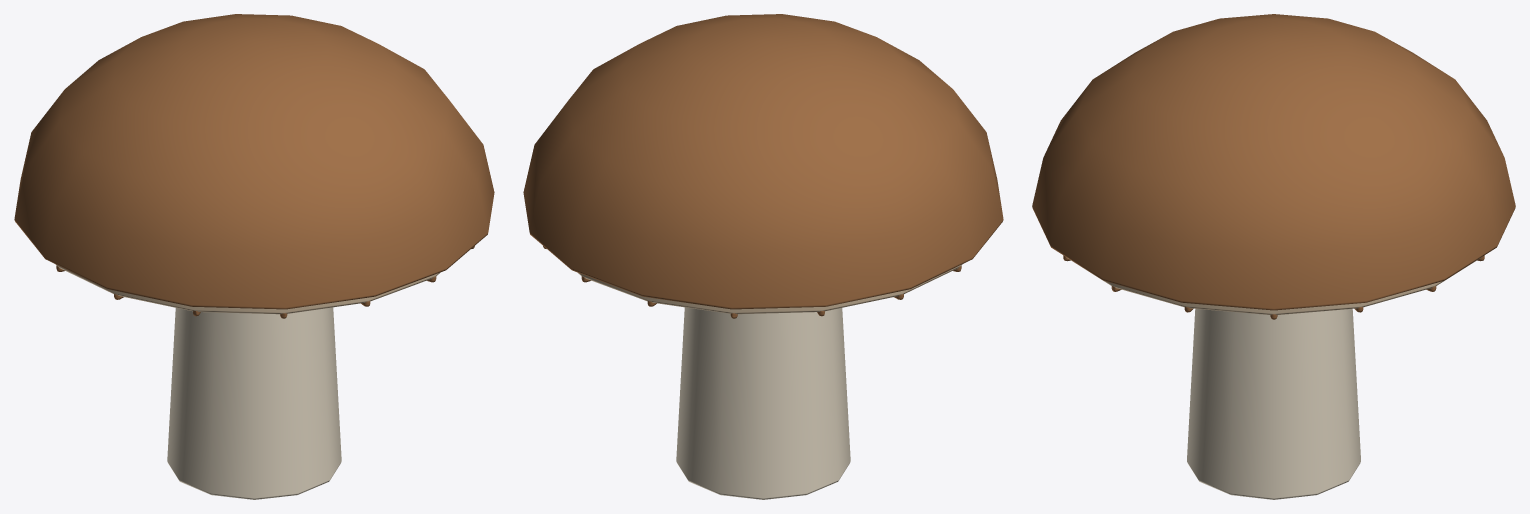
File: Mushroom.glb
3 views of the same model, side by side, from view 1: azimuth 30°, elevation 25°; view 2: azimuth 150°, elevation 25°; view 3: azimuth 270°, elevation 25° (orthographic).
Visible parts, largest first — view 1: Mushroom; view 2: Mushroom; view 3: Mushroom.
Boxes of the visible parts, x1=… form: Mushroom: x1=14, y1=14, x2=494, y2=499; Mushroom: x1=523, y1=14, x2=1003, y2=499; Mushroom: x1=1032, y1=14, x2=1515, y2=499.
Bounding box in the file's own units: 0.0997 × 0.096 × 0.0997.
